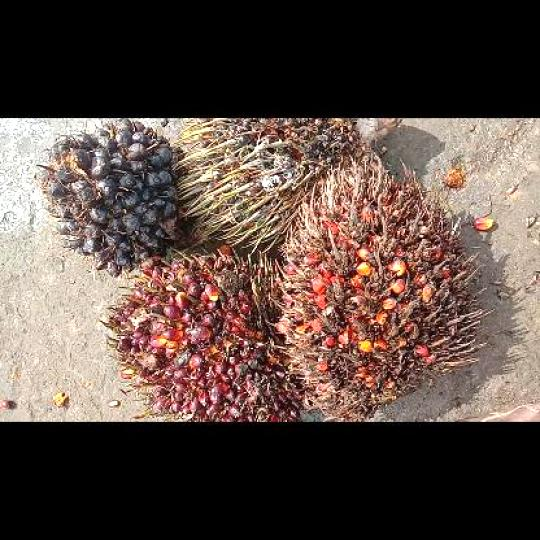masak: (101, 246, 304, 420)
terlalu masak: (276, 155, 490, 421)
